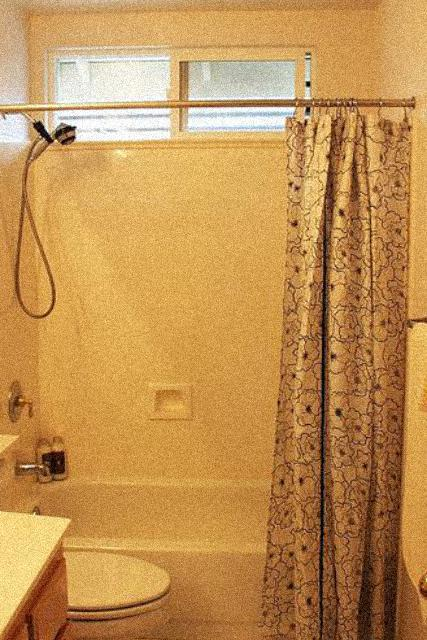Ducha: (0, 96, 79, 459)
Sanitario: (0, 503, 177, 640)
